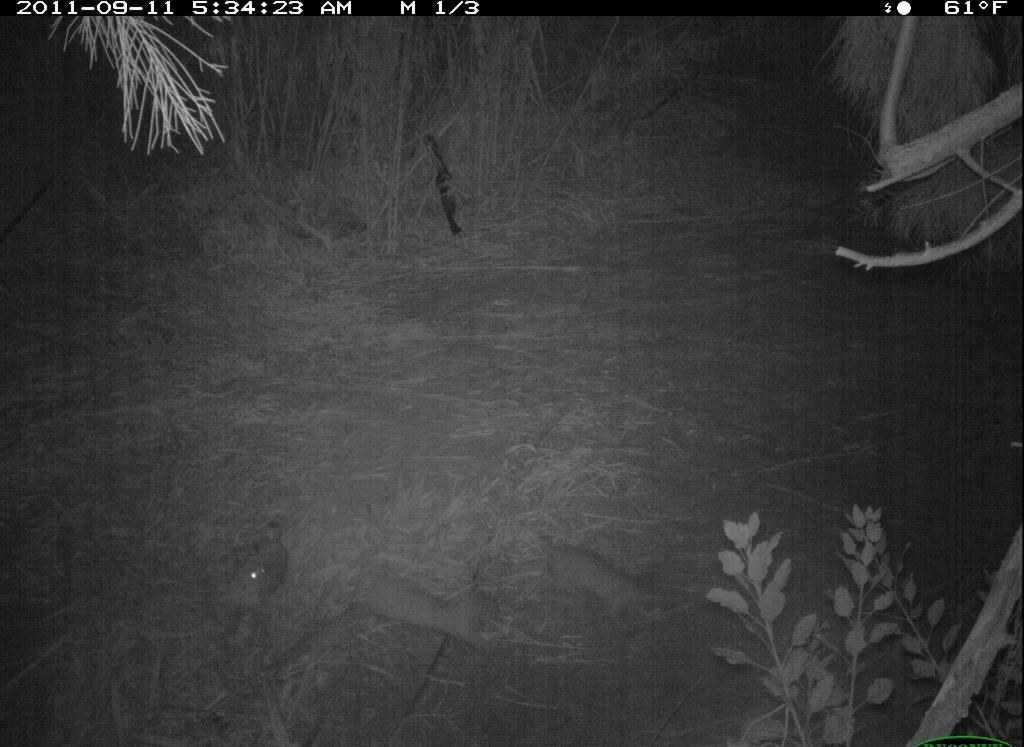bobcat: (347, 562, 513, 673), (533, 528, 671, 644), (212, 519, 294, 655)
